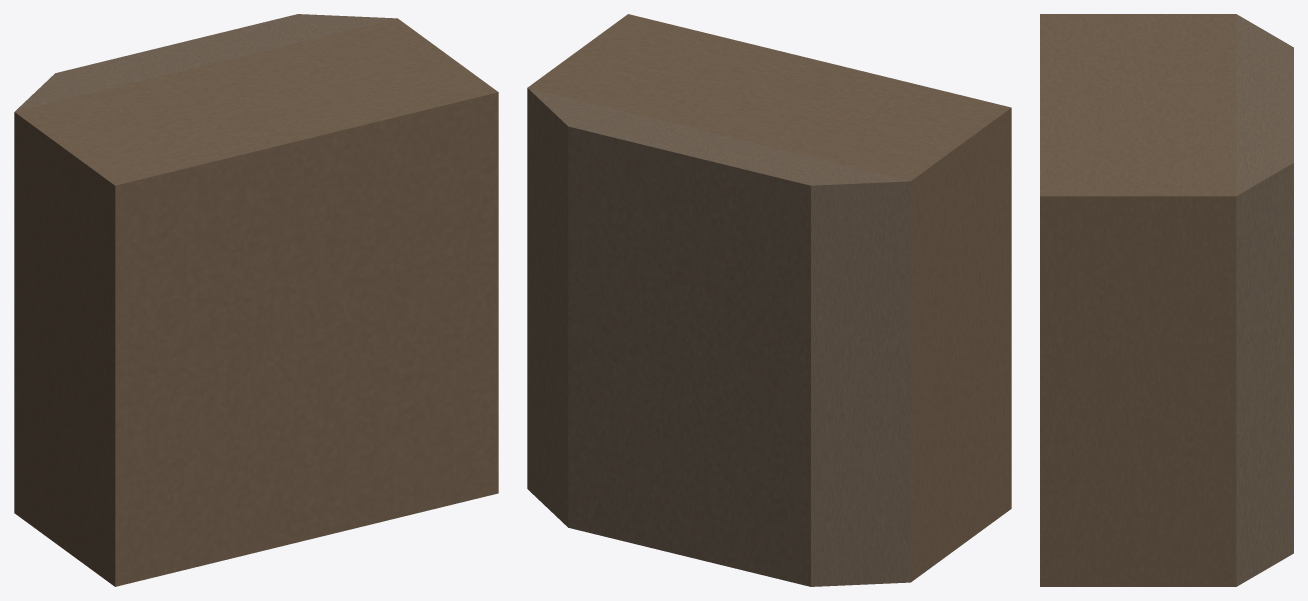
File: de_desert_0.fbx
3 views of the same model, side by side, from view 1: azimuth 30°, elevation 25°; view 2: azimuth 150°, elevation 25°; view 3: azimuth 270°, elevation 25° (orthographic). The views are drawn at different scales.
Visible parts, largest first — view 1: Cube.313; view 2: Cube.313; view 3: Cube.313.
Boxes of the visible parts, x1,y1,x2,y2 form: Cube.313: (14, 14, 498, 586); Cube.313: (527, 14, 1011, 586); Cube.313: (1040, 14, 1293, 586).
Bounding box in the file's own units: 176 × 176 × 103.
